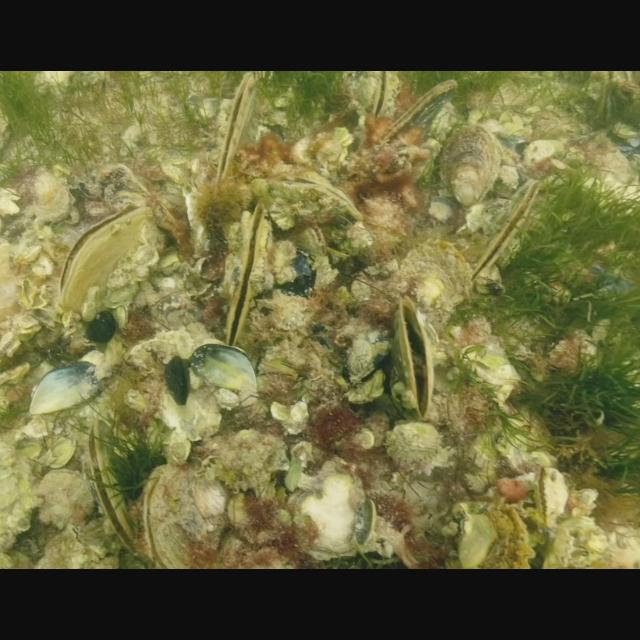Oyster-Closed: (141, 464, 225, 570), (396, 236, 476, 336), (437, 120, 503, 208), (380, 78, 460, 150)
Oyster-Open: (57, 202, 155, 312), (465, 178, 547, 286), (452, 499, 572, 569), (85, 420, 138, 558), (222, 202, 272, 348), (391, 291, 441, 425), (262, 164, 362, 230), (214, 72, 260, 182), (532, 465, 570, 525), (368, 72, 398, 122), (289, 223, 329, 260)
